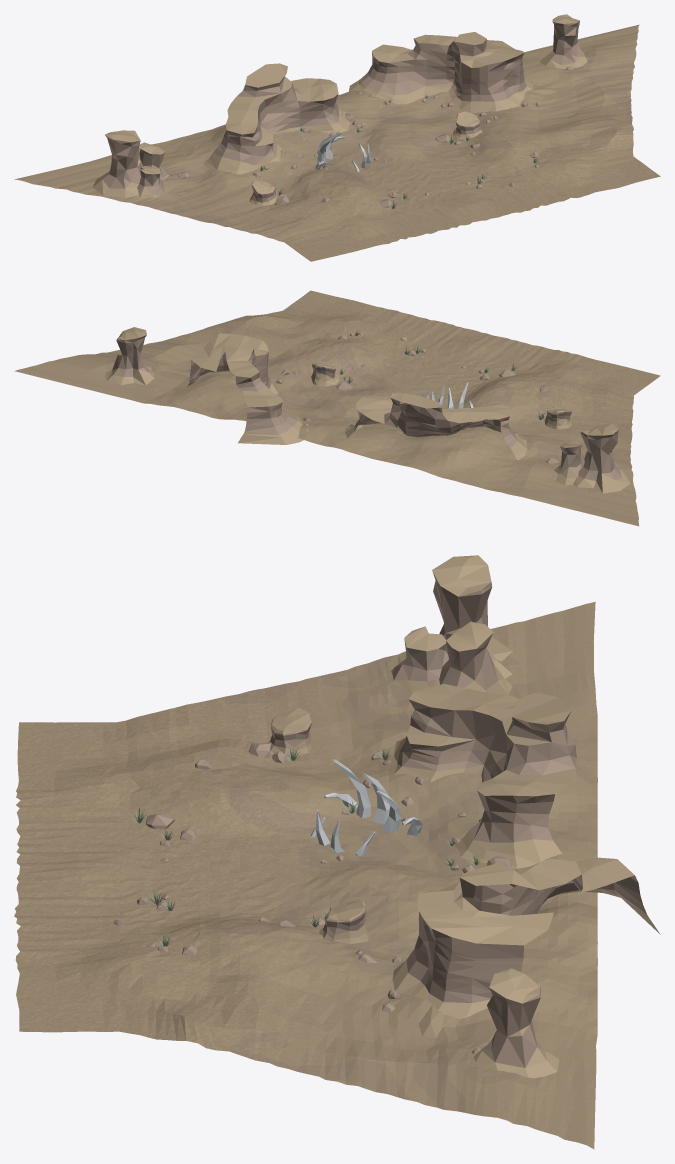
Rendered from desertDiorama.fbx.
The picture shows the model from 3 angles, top to bottom: view 1: azimuth 30°, elevation 25°; view 2: azimuth 150°, elevation 25°; view 3: azimuth 270°, elevation 25°; orthographic projection. The views are drawn at different scales.
Visible parts, largest first — view 1: desertDioGround, desertDioProps01, desertDioProps02; view 2: desertDioGround, desertDioProps01, desertDioProps02; view 3: desertDioGround, desertDioProps01, desertDioProps02.
Part boxes in pixels (x1=…): desertDioGround: x1=14, y1=24, x2=660, y2=261; desertDioProps01: x1=93, y1=63, x2=429, y2=208; desertDioProps02: x1=349, y1=14, x2=587, y2=188; desertDioGround: x1=14, y1=290, x2=660, y2=526; desertDioProps01: x1=345, y1=364, x2=630, y2=493; desertDioProps02: x1=105, y1=327, x2=426, y2=444; desertDioGround: x1=14, y1=601, x2=597, y2=1149; desertDioProps01: x1=129, y1=555, x2=576, y2=872; desertDioProps02: x1=114, y1=857, x2=660, y2=1078.
Size of the model in its own units: 65.79 by 7.52 by 32.56.
Materials: 2 (2 with a texture image).
